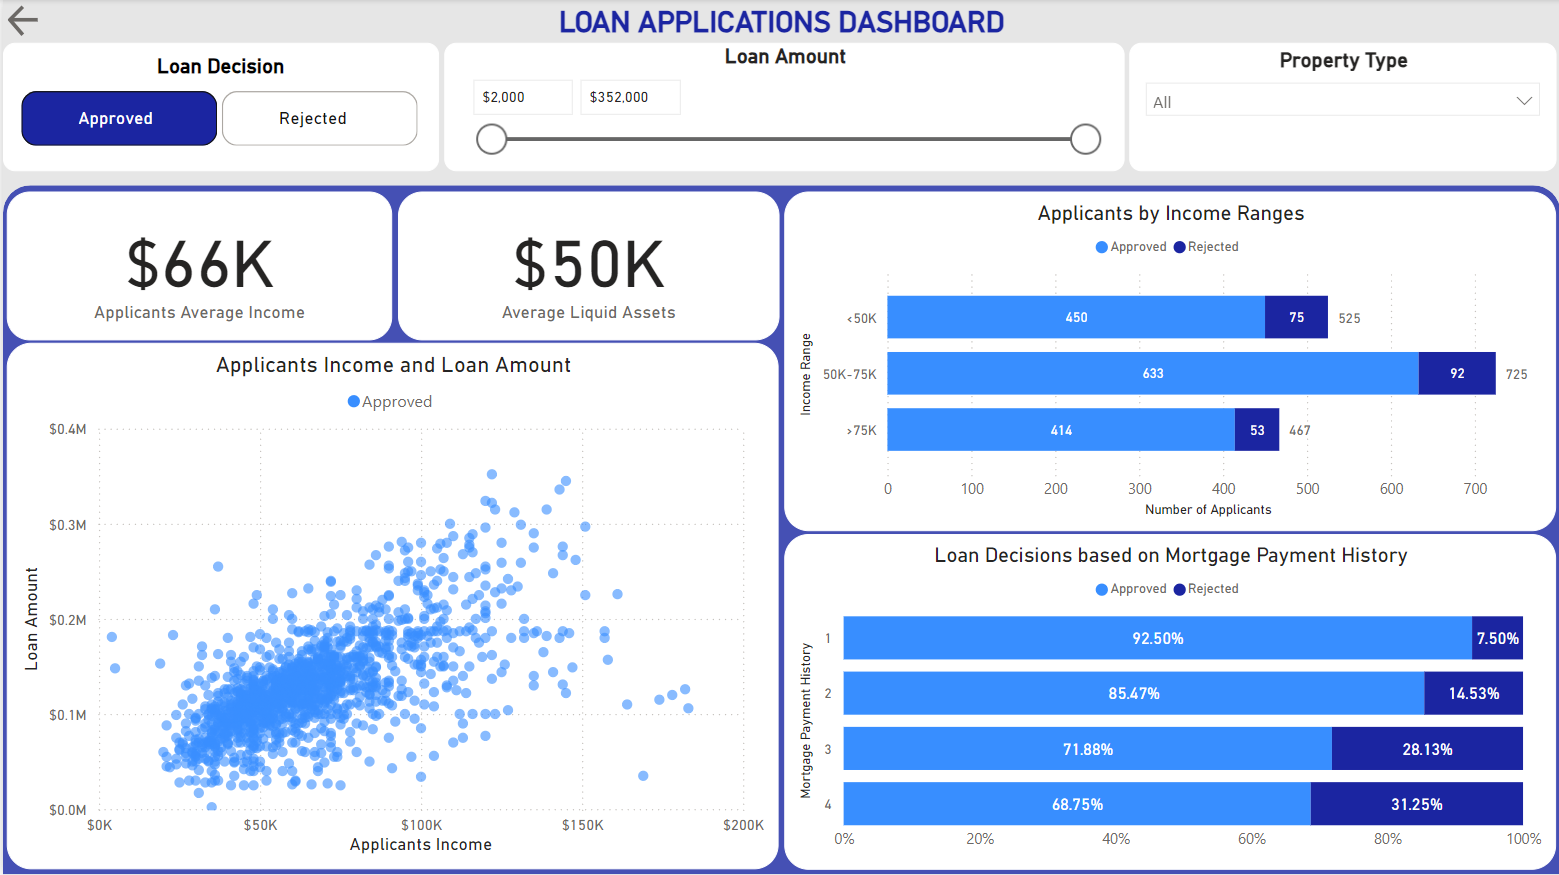

Layout of this report page (visuals, bound fields, positions):
{"tool":"powerbi","page":{"name":"Page 2","canvas":[1280,720],"ordinal":1},"visuals":[{"type":"shape","box":[0,153.5,1280.2,566.3],"z":0},{"type":"textbox","box":[0,36,358.1,105.8],"z":1000},{"type":"slicer","title":"Loan Amount","fields":{"Values":["loan_applications_BI.loan_amount_thousand"]},"box":[362.8,36,559.3,105.8],"z":2000},{"type":"slicer","title":"Property Type","fields":{"Values":["loan_applications_BI.property_type"]},"box":[925.6,36,351.2,105.8],"z":3000},{"type":"textbox","box":[0,0,1280.2,46.5],"z":4000},{"type":"advancedSlicerVisual","title":"Loan Decision:","fields":{"Values":["loan_applications_BI.decision_label"]},"box":[3.5,64,350,69.8],"z":5000},{"type":"barChart","title":"Applicants by Income Ranges","fields":{"Y":["CountNonNull(loan_applications_BI.applicant_income_range)"],"Series":["loan_applications_BI.decision_label"],"Category":["income_range_order.income_range"]},"box":[642.5,158,634.2,279.4],"z":6000},{"type":"card","fields":{"Values":["Avg(loan_applications_BI.applicant_income_thousand)"]},"box":[3.5,158,317.1,122.6],"z":7000},{"type":"card","fields":{"Values":["Avg(loan_applications_BI.liquid_assets_thousand)"]},"box":[324.2,158,313.6,122.6],"z":8000},{"type":"scatterChart","title":"Applicants Income and Loan Amount","fields":{"Y":["loan_applications_BI.loan_amount_thousand"],"X":["loan_applications_BI.applicant_income_thousand"],"Series":["loan_applications_BI.decision_label"]},"box":[3.5,282.9,634.2,432.6],"z":9000},{"type":"hundredPercentStackedBarChart","title":"Loan Decisions based on Mortgage Payment History","fields":{"Series":["loan_applications_BI.decision_label"],"Y":["CountNonNull(loan_applications_BI.decision_label)"],"Category":["loan_applications_BI.mortage_payment_history"]},"box":[642.5,439.7,634.2,275.9],"z":10000},{"type":"actionButton","box":[0,0,34.2,36.5],"z":10501}]}

Visuals, with their boxes in screenshot pixels (x1, y1, x2, y2), scaled from the page's 1280x720 canvas onto the 1559x875 screenshot:
shape: <region>0, 187, 1558, 874</region>
textbox: <region>0, 44, 436, 172</region>
"Loan Amount" slicer: <region>442, 44, 1123, 172</region>
"Property Type" slicer: <region>1127, 44, 1555, 172</region>
textbox: <region>0, 0, 1558, 57</region>
"Loan Decision:" advancedSlicerVisual: <region>4, 78, 431, 163</region>
"Applicants by Income Ranges" barChart: <region>783, 192, 1555, 532</region>
card - Avg(loan_applications_BI.applicant_income_thousand): <region>4, 192, 390, 341</region>
card - Avg(loan_applications_BI.liquid_assets_thousand): <region>395, 192, 777, 341</region>
"Applicants Income and Loan Amount" scatterChart: <region>4, 344, 777, 870</region>
"Loan Decisions based on Mortgage Payment History" hundredPercentStackedBarChart: <region>783, 534, 1555, 870</region>
actionButton: <region>0, 0, 42, 44</region>
